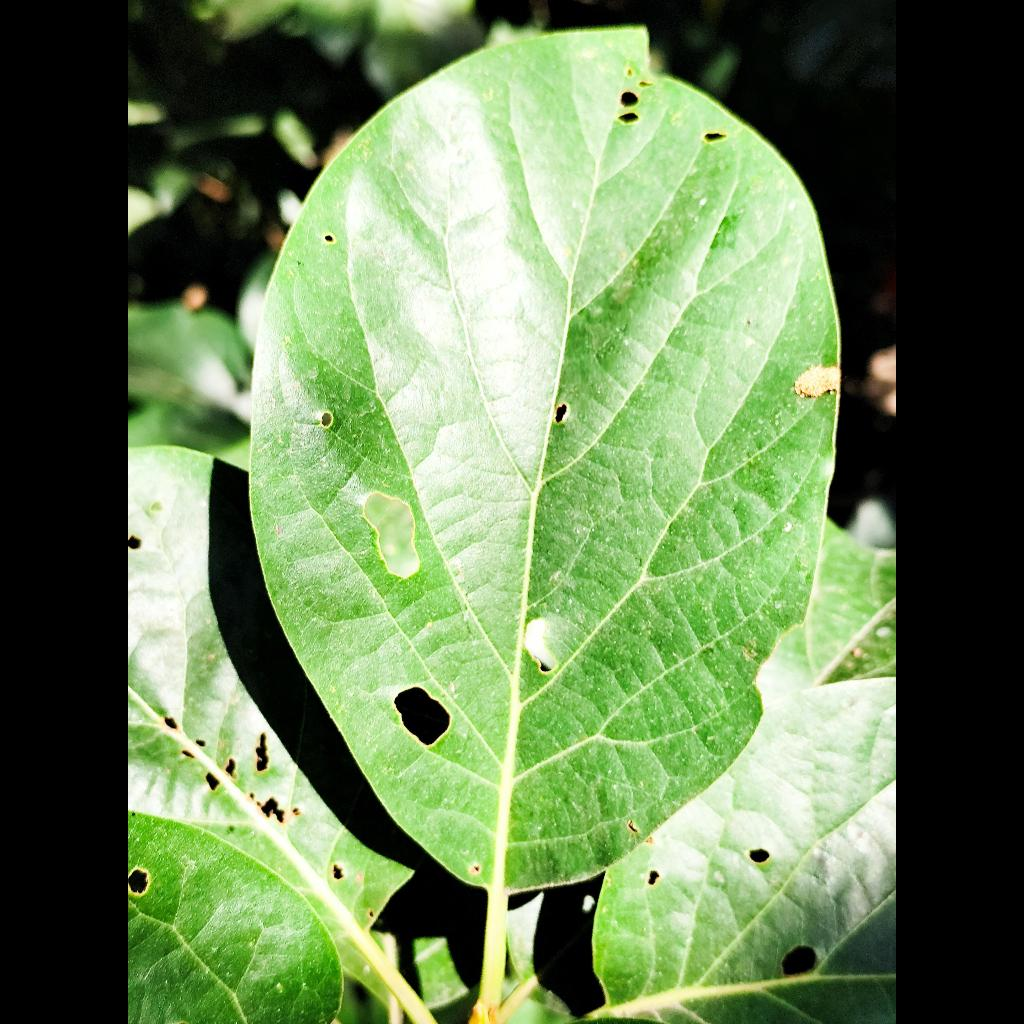Pest Infested: (251, 30, 838, 909)
